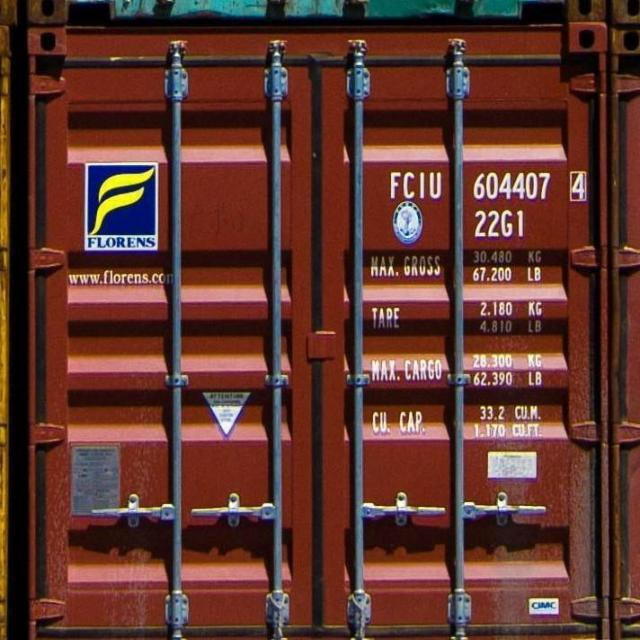ISO: (472, 209, 528, 239)
container_number: (391, 169, 585, 203)
